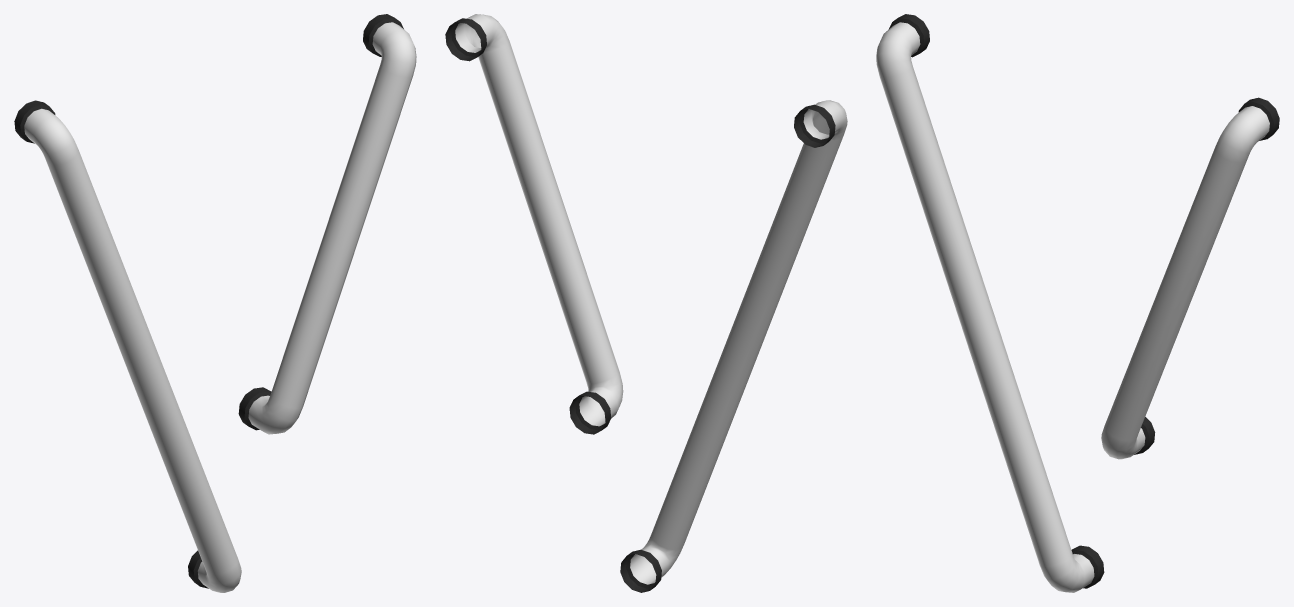
File: LettersNeon01_V.FBX
3 views of the same model, side by side, from view 1: azimuth 30°, elevation 25°; view 2: azimuth 150°, elevation 25°; view 3: azimuth 330°, elevation 25° (orthographic).
Visible parts, largest first — view 1: LettersNeon01_V; view 2: LettersNeon01_V; view 3: LettersNeon01_V.
Boxes of the visible parts, <box> form: LettersNeon01_V: <box>14,14,416,592</box>; LettersNeon01_V: <box>445,14,847,592</box>; LettersNeon01_V: <box>876,14,1279,592</box>.
Size of what is drawn, in the model's own units: 0.3819 by 0.4999 by 0.054.
